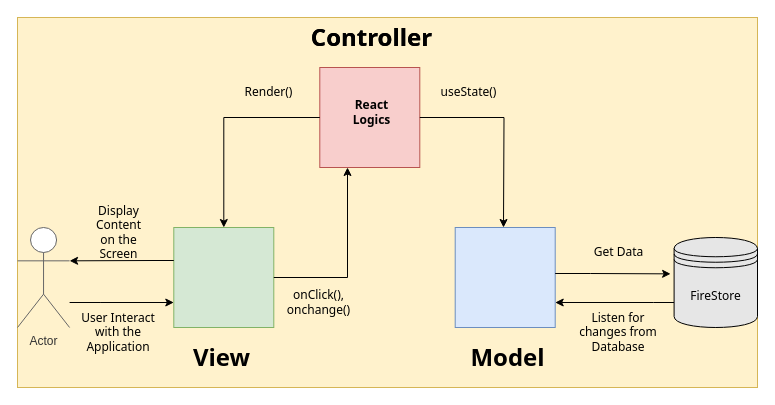
This 775x405 diagram has some shape labels left out. Each missing label, with the centre of its shape:
"React States, Props" belongs at [504,277].
"React UI Components in JSX" belongs at [223,277].
